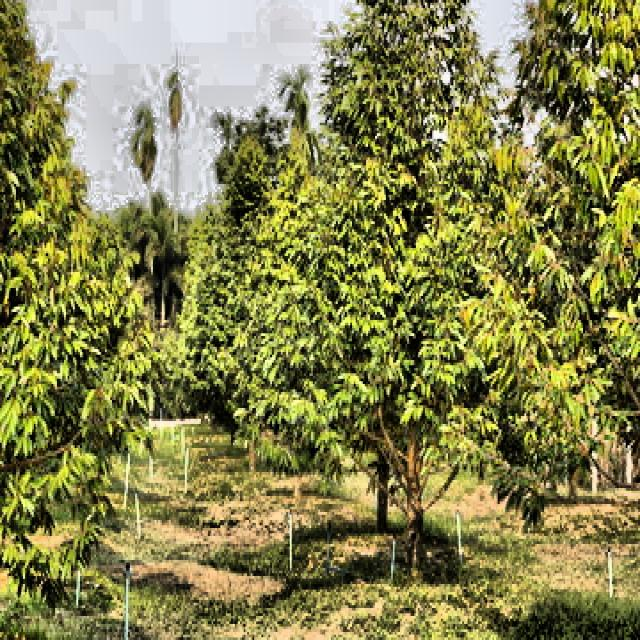arvore: (391, 375, 439, 602), (364, 389, 403, 548)
